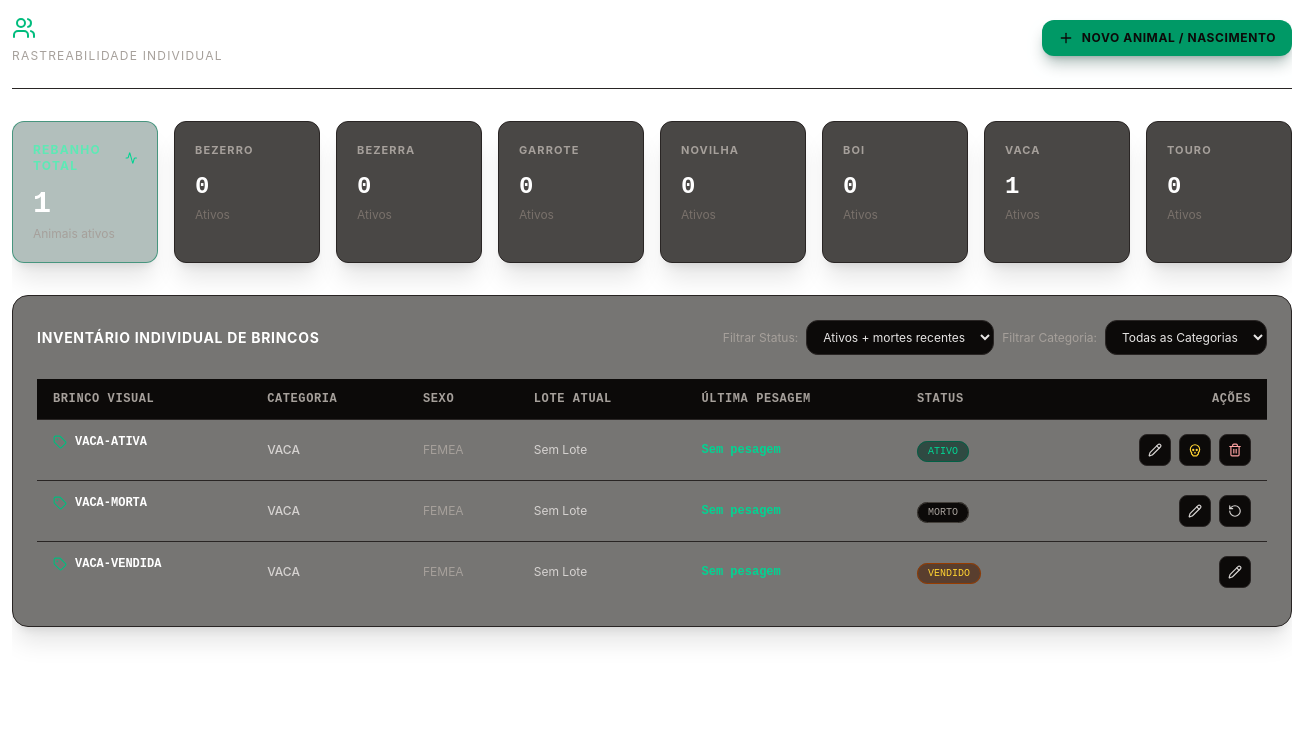
Test: Rebanho renderizado › @spec:AC-331 @spec:AC-206 consulta status no backend e aplica categoria na lista recebida
The width and height of the screenshot is (1304, 732).
expect the text "VACA-ATIVA" is shown: met, box [37,420,251,464]
Select "Mortos" in the 1st dropdown at (900, 338), box [806,320,994,355]
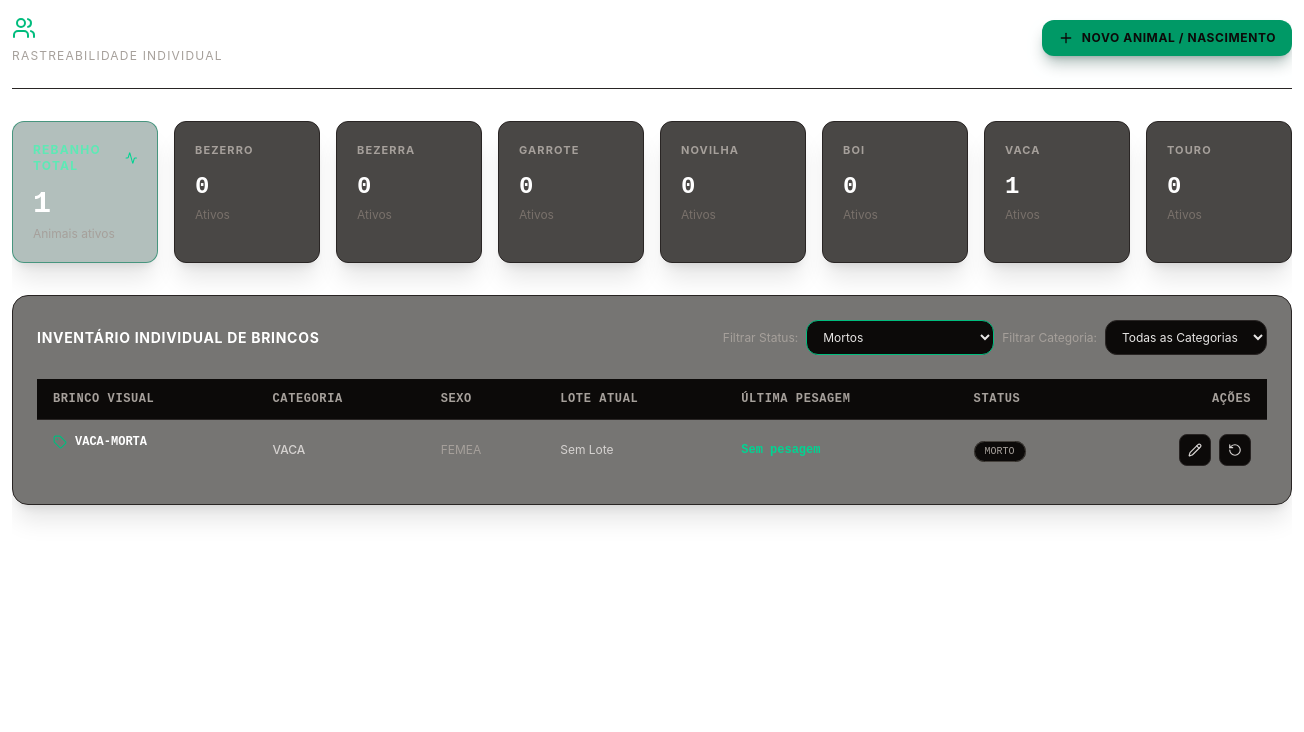
expect the text "VACA-MORTA" is shown: met, box [37,420,256,464]
expect the text "VACA-ATIVA" is gone: met
Select "Boi" in the 2nd dropdown at (1186, 338), box [1105,320,1267,355]
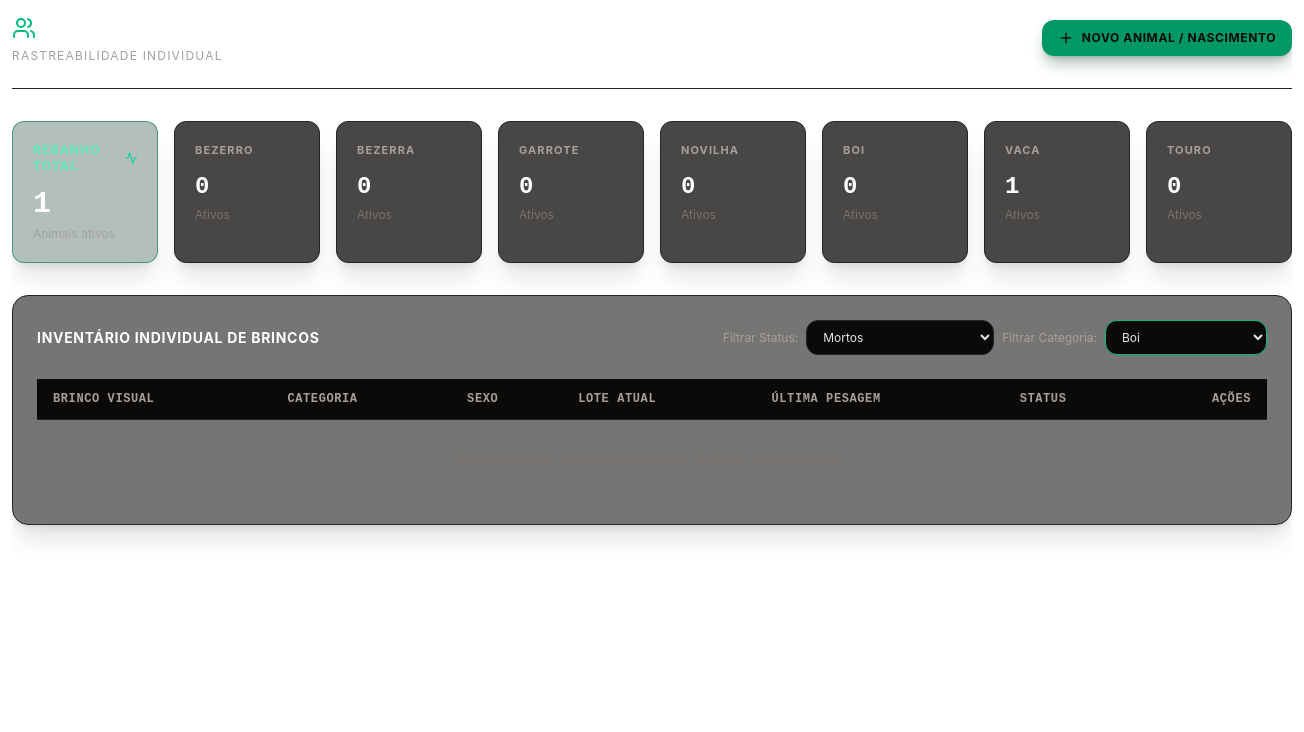
expect the text "Nenhum animal encontrado para os filtros selecionados." is shown: met, box [37,420,1267,500]
